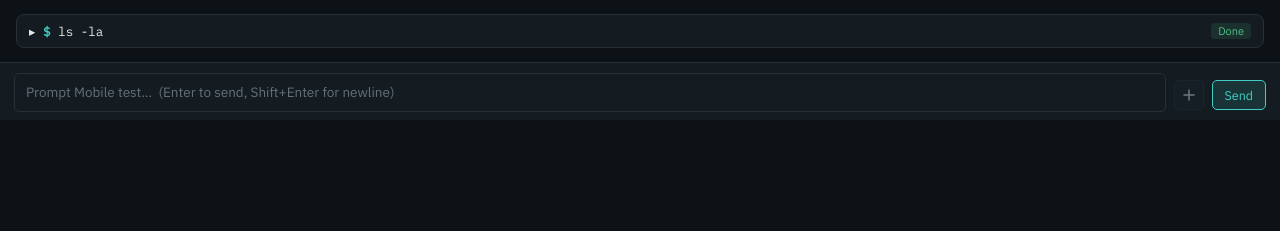
Scenario: TranscriptPane voice rendering › prefers an MCP-nested command string over the tool title
This screenshot has width=1280, height=231.
Click the element with class "card-head".
click(81, 31)  # box [29, 23, 1251, 39]
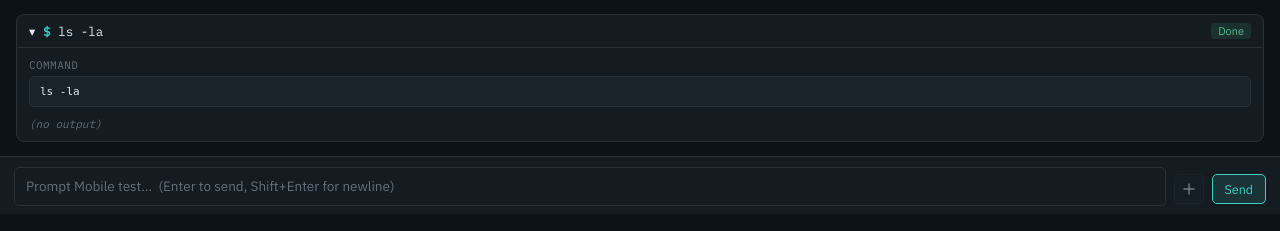
Check: the text with class "tool-terminal-command" reads "ls -la", box [40, 85, 80, 98]
